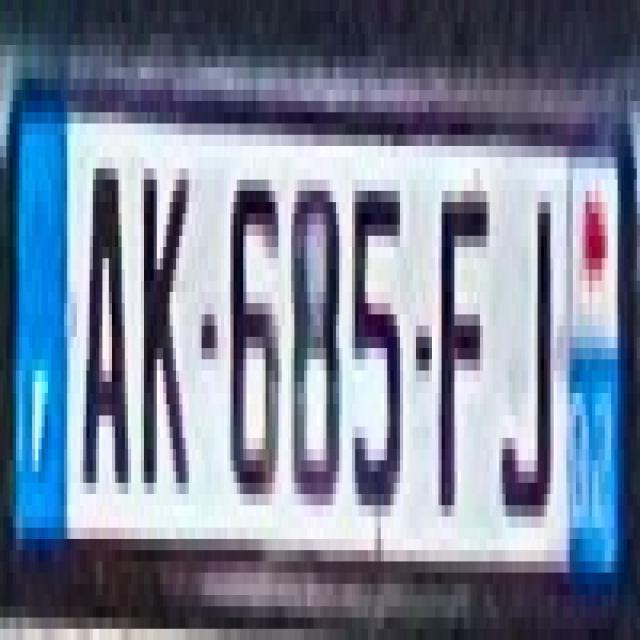EU: (9, 104, 628, 589)
France: (13, 108, 69, 546)
